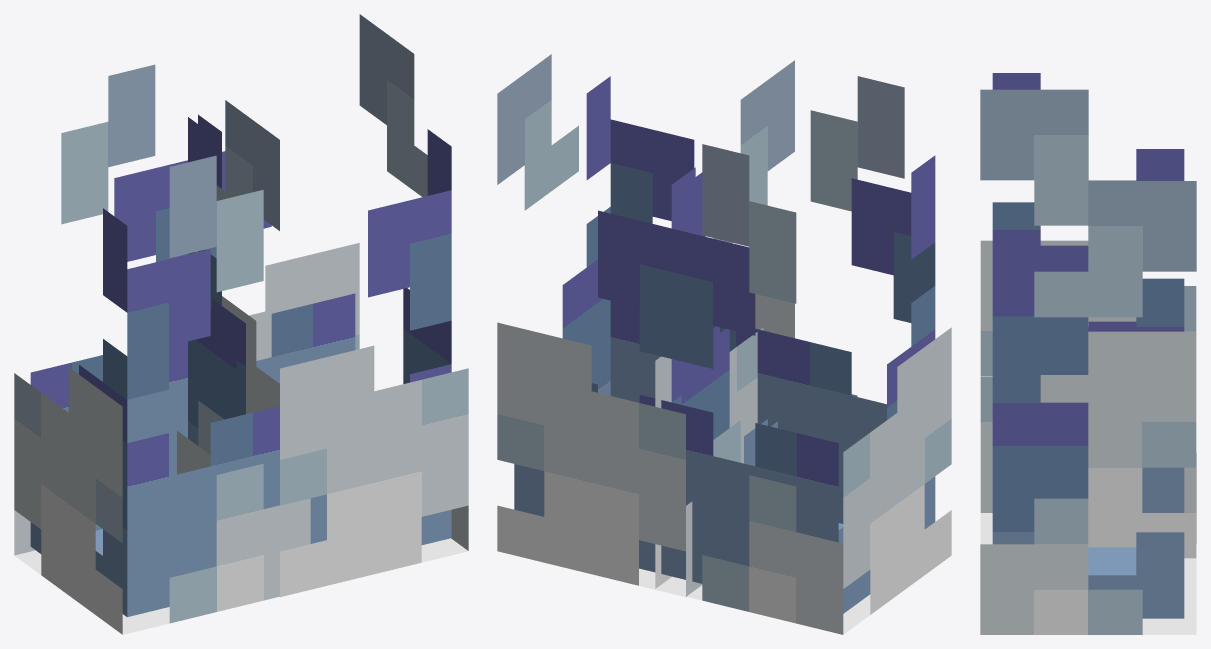
File: sl_spirit_flame_feet.glb
3 renders of one model, left to right at view 1: azimuth 30°, elevation 25°; view 2: azimuth 150°, elevation 25°; view 3: azimuth 270°, elevation 25°, orthographic.
Visible parts, largest first — view 1: bb_spirit_flame_feet; view 2: bb_spirit_flame_feet; view 3: bb_spirit_flame_feet.
Boxes of the visible parts, x1,y1,x2,y2 form: bb_spirit_flame_feet: (14, 14, 468, 634); bb_spirit_flame_feet: (497, 54, 951, 634); bb_spirit_flame_feet: (980, 73, 1196, 634).
Bounding box in the file's own units: 0.5219 × 0.66 × 0.285.
1 material, 1 textured.
